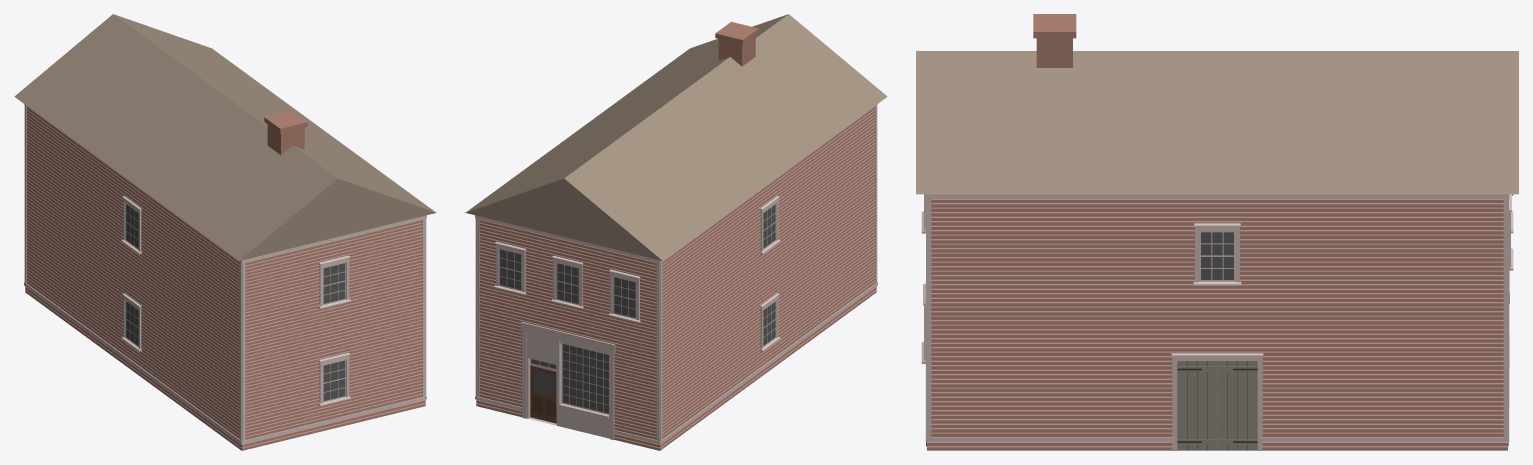
The model's file is recon_1835_core_c3_045__inferred_1835.glb.
The picture shows the model from 3 angles, left to right: view 1: azimuth 30°, elevation 25°; view 2: azimuth 150°, elevation 25°; view 3: azimuth 270°, elevation 25°; orthographic projection. The views are drawn at different scales.
Parts seen in each view (by area): view 1: recon_1835_core_c3_045__inferred_1835; view 2: recon_1835_core_c3_045__inferred_1835; view 3: recon_1835_core_c3_045__inferred_1835.
Boxes of the visible parts, x1=… form: recon_1835_core_c3_045__inferred_1835: x1=14, y1=14, x2=436, y2=450; recon_1835_core_c3_045__inferred_1835: x1=465, y1=14, x2=887, y2=450; recon_1835_core_c3_045__inferred_1835: x1=916, y1=14, x2=1518, y2=450.
Size of the model in its own units: 7.03 by 9.31 by 13.84.
